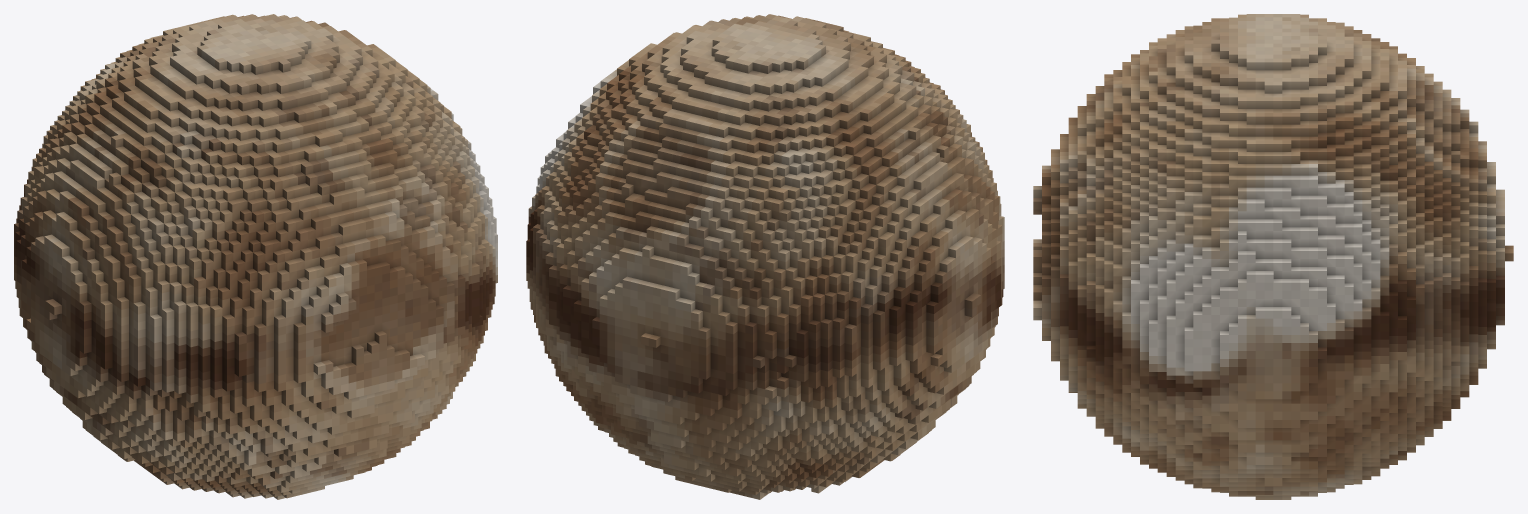
The model's file is pluto_lod0.glb.
The picture shows the model from 3 angles, left to right: view 1: azimuth 30°, elevation 25°; view 2: azimuth 150°, elevation 25°; view 3: azimuth 270°, elevation 25°; orthographic projection.
Visible parts, largest first — view 1: pluto_lod0; view 2: pluto_lod0; view 3: pluto_lod0.
Boxes of the visible parts, left/top/right/bottom form: pluto_lod0: left=14, top=14, right=497, bottom=499; pluto_lod0: left=526, top=14, right=1004, bottom=499; pluto_lod0: left=1033, top=14, right=1513, bottom=499.
Size of the model in its own units: 2.08 by 2.08 by 2.08.
